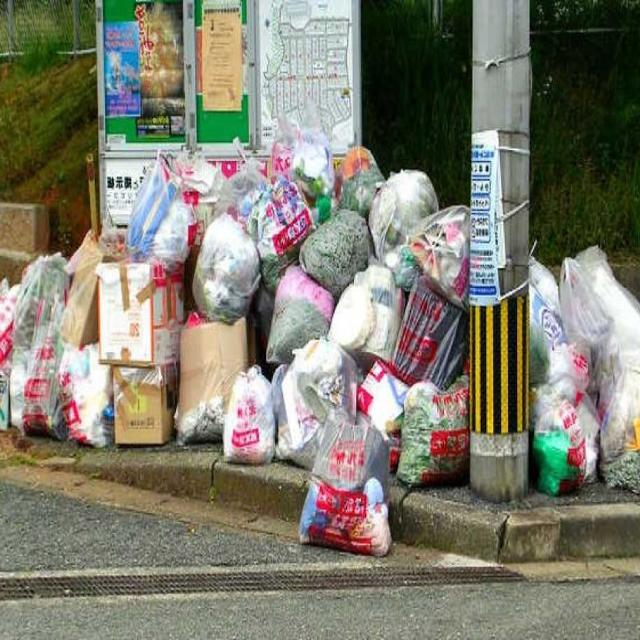sampah-detection: (238, 132, 474, 480), (0, 218, 189, 451), (526, 235, 640, 496), (298, 406, 396, 560), (130, 133, 234, 260), (178, 304, 255, 447), (190, 215, 262, 323), (223, 366, 280, 468)
